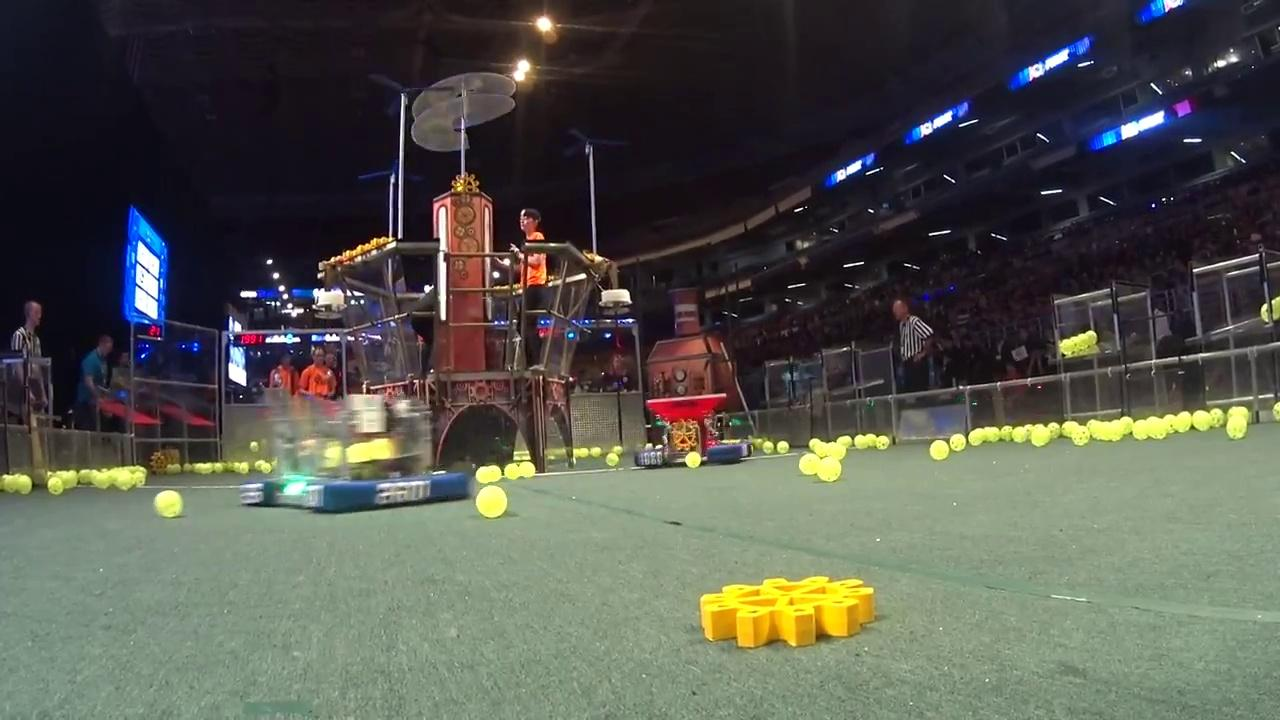robot: (235, 385, 470, 517), (630, 386, 757, 472)
